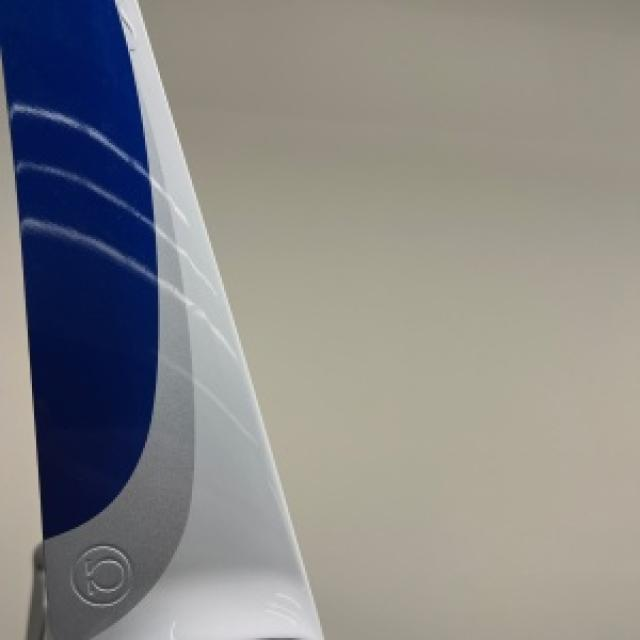healthy: (0, 0, 320, 638)
